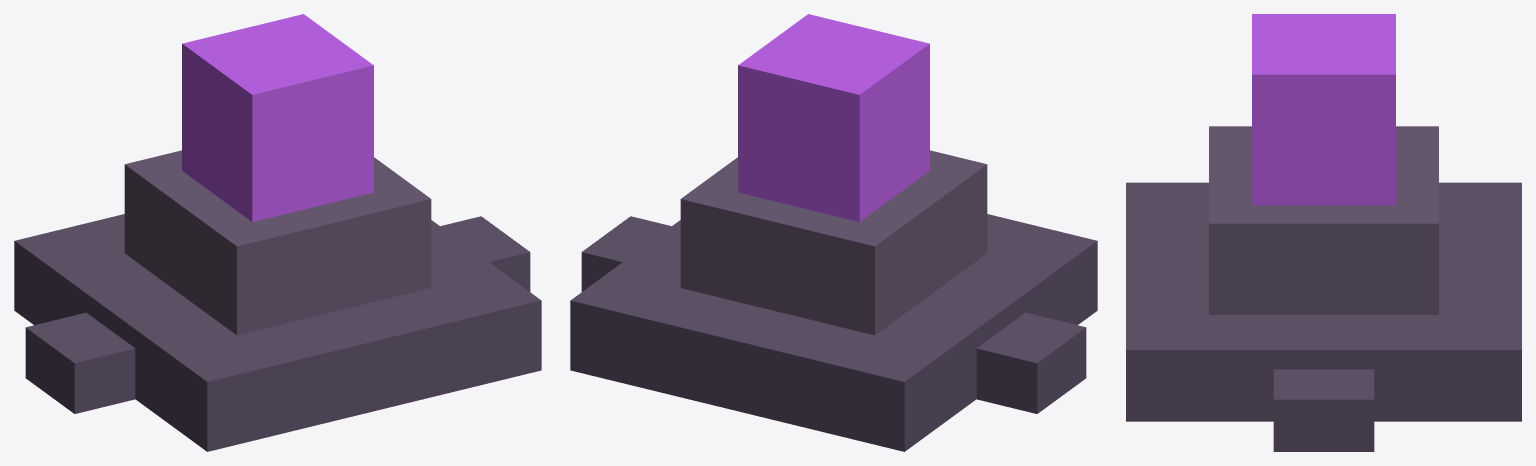
Rendered from sensor-node.glb.
The picture shows the model from 3 angles, left to right: view 1: azimuth 30°, elevation 25°; view 2: azimuth 150°, elevation 25°; view 3: azimuth 270°, elevation 25°; orthographic projection. The views are drawn at different scales.
Visible parts, largest first — view 1: sensor-node; view 2: sensor-node; view 3: sensor-node.
Boxes of the visible parts, <box> form: sensor-node: <box>14,14,541,451</box>; sensor-node: <box>570,14,1097,451</box>; sensor-node: <box>1126,14,1521,451</box>.
Size of the model in its own units: 1.5 by 0.9 by 1.1.
